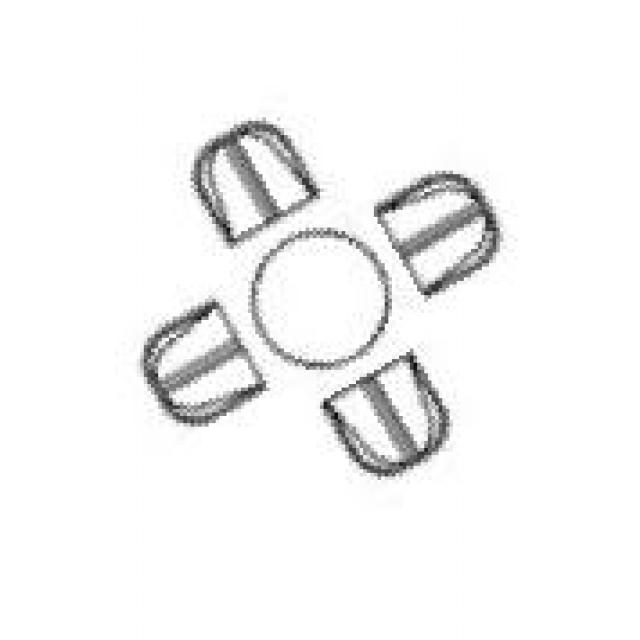table: (144, 117, 496, 473)
